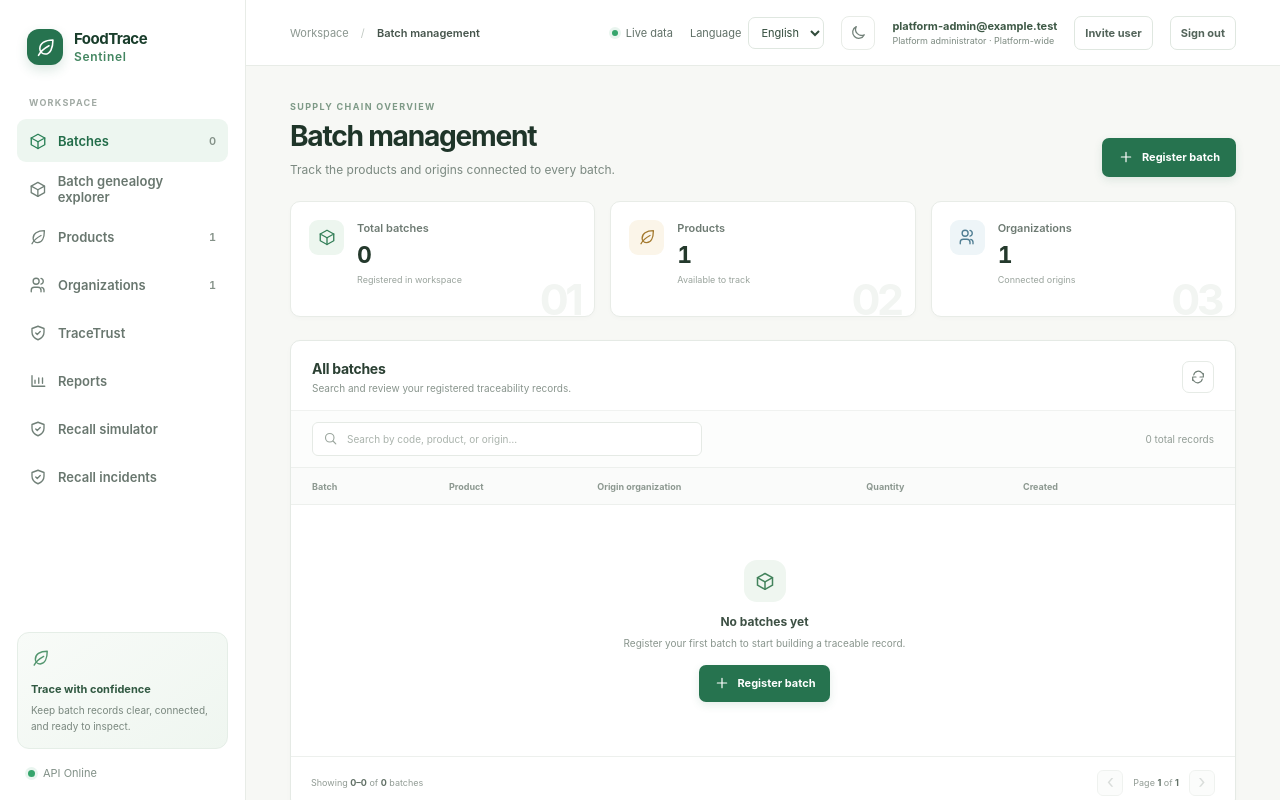
Test case: FoodTrace Sentinel batch dashboard › opens the live Batch Genealogy Explorer from workspace navigation
The image size is (1280, 800).
Expected: the heading "Batch management" is shown, [290,119,536,153]
Click the button "Batch genealogy explorer" at (122, 188), box [17,167,228,210]
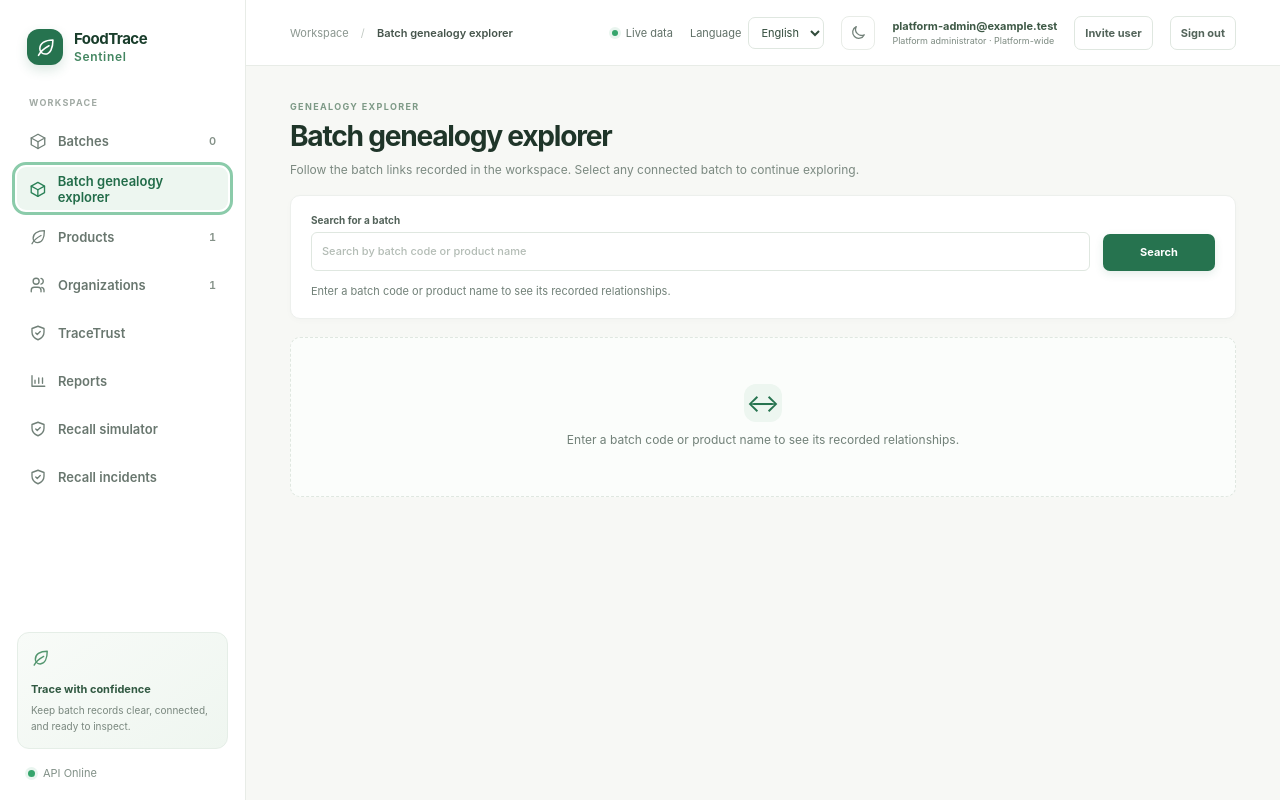
Result: the heading "Batch genealogy explorer" is shown at [290,119,611,153]
Result: the search field labelled "Search for a batch" is shown at [311,232,1090,271]
Result: the text "Enter a batch code or product name to see its recorded relationships." is shown 2 times at [311,284,671,298]; [567,430,959,449]
